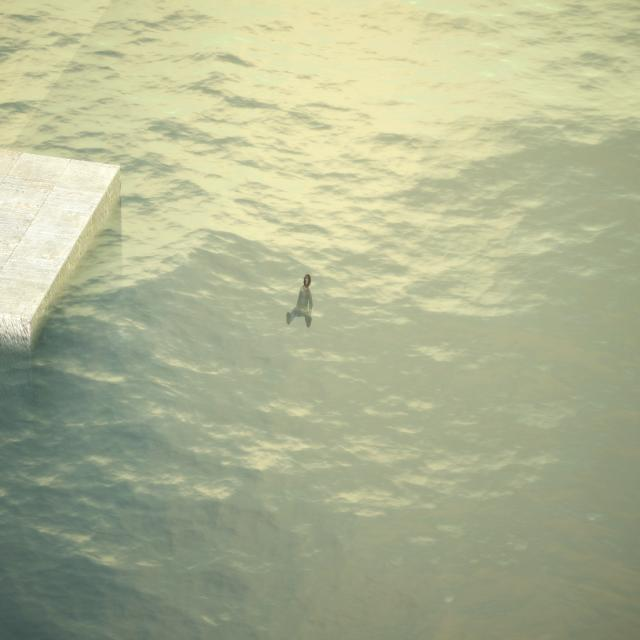Human: (284, 268, 317, 333)
